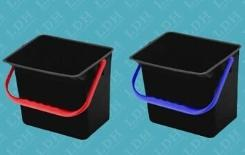SEAU: (0, 25, 245, 147)
